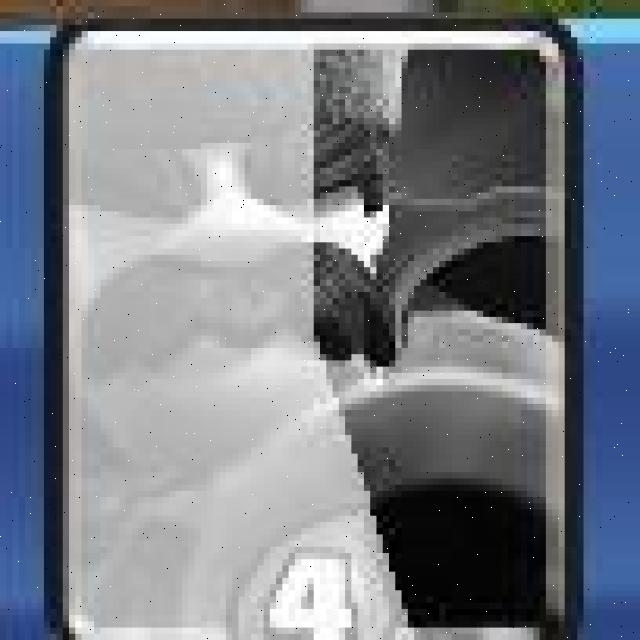Hunter: (46, 20, 583, 640)
